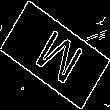M_SW: (26, 21, 84, 89)
